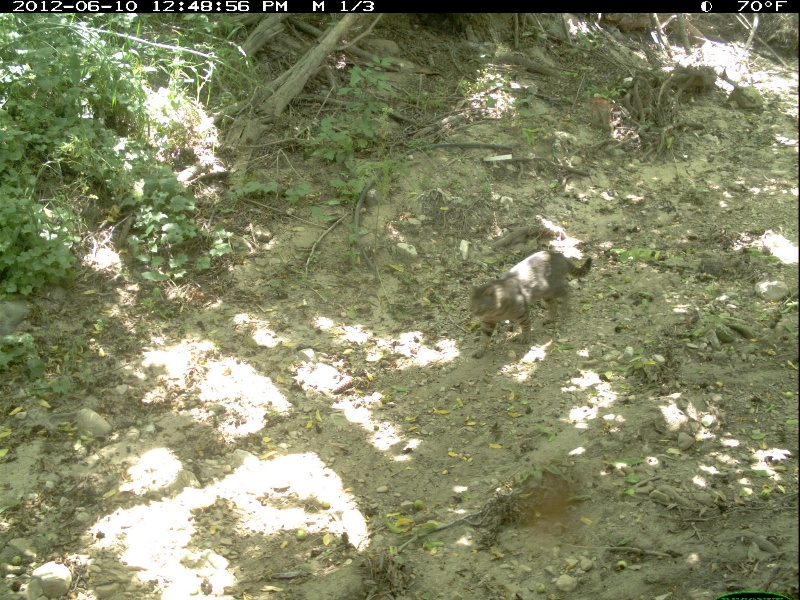cat: (460, 244, 595, 373)
